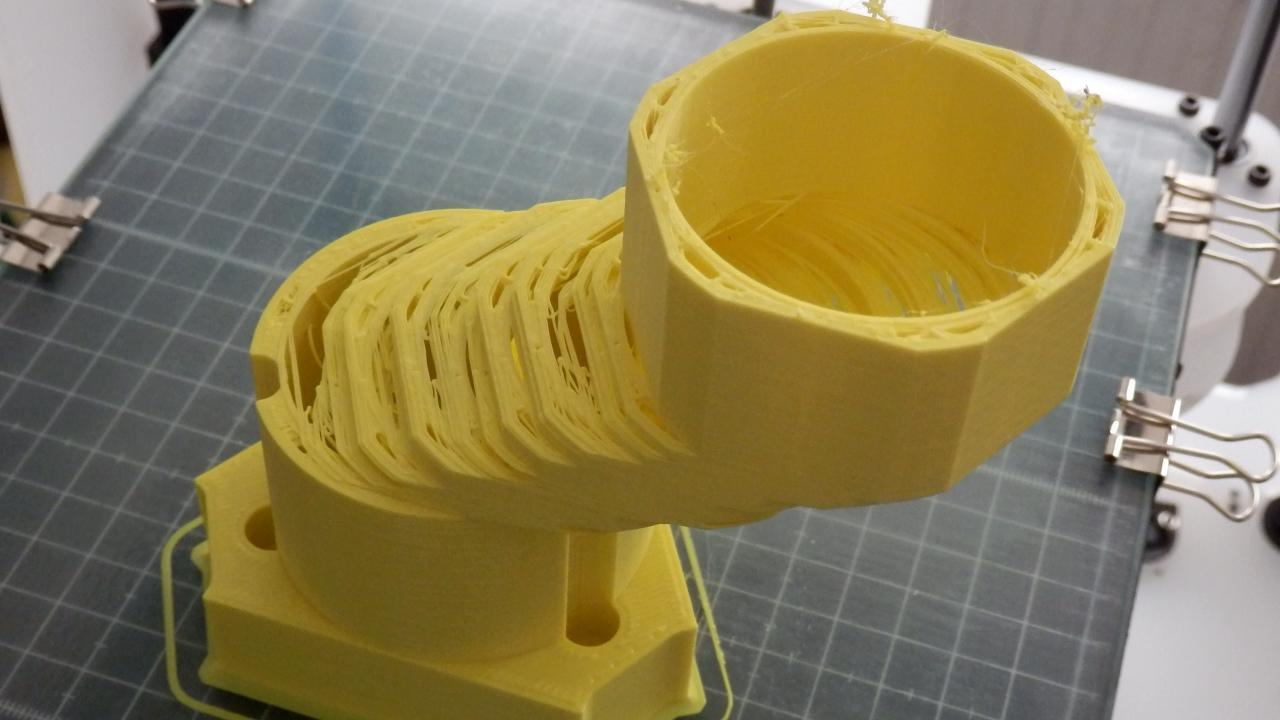Layer Shifting: (246, 177, 819, 533), (706, 188, 1036, 333)
